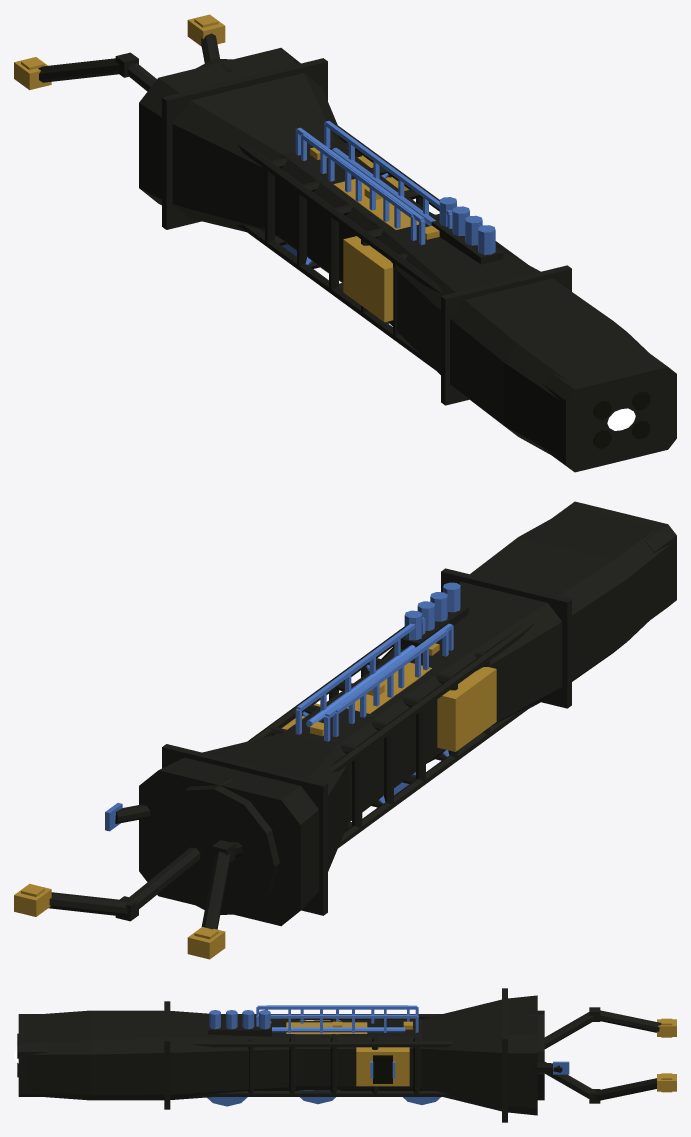
The picture shows the model from 3 angles, top to bottom: view 1: azimuth 30°, elevation 25°; view 2: azimuth 150°, elevation 25°; view 3: azimuth 270°, elevation 25°; orthographic projection. The views are drawn at different scales.
Visible parts, largest first — view 1: RIMWARD_HULL; view 2: RIMWARD_HULL; view 3: RIMWARD_HULL.
Part boxes in pixels (box(x1,y1,x2,y2)): RIMWARD_HULL: box(14, 14, 676, 472); RIMWARD_HULL: box(14, 501, 676, 959); RIMWARD_HULL: box(17, 988, 676, 1122).
Bounding box in the file's own units: 2.47 × 1.77 × 11.23.
